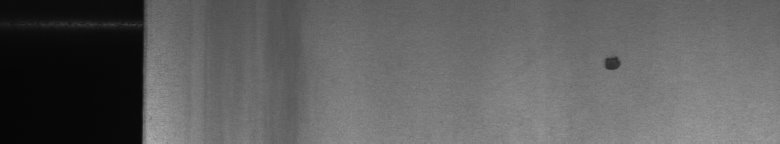fi: (597, 48, 627, 76)
